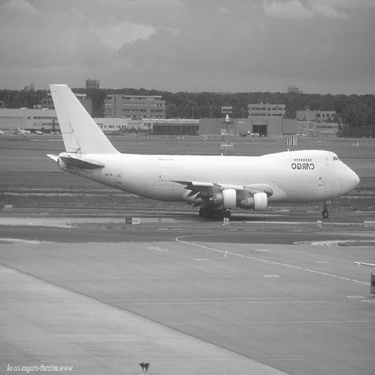airplane: (18, 67, 370, 239)
